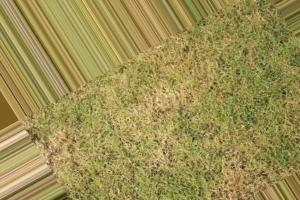patch: (94, 92, 196, 123)
